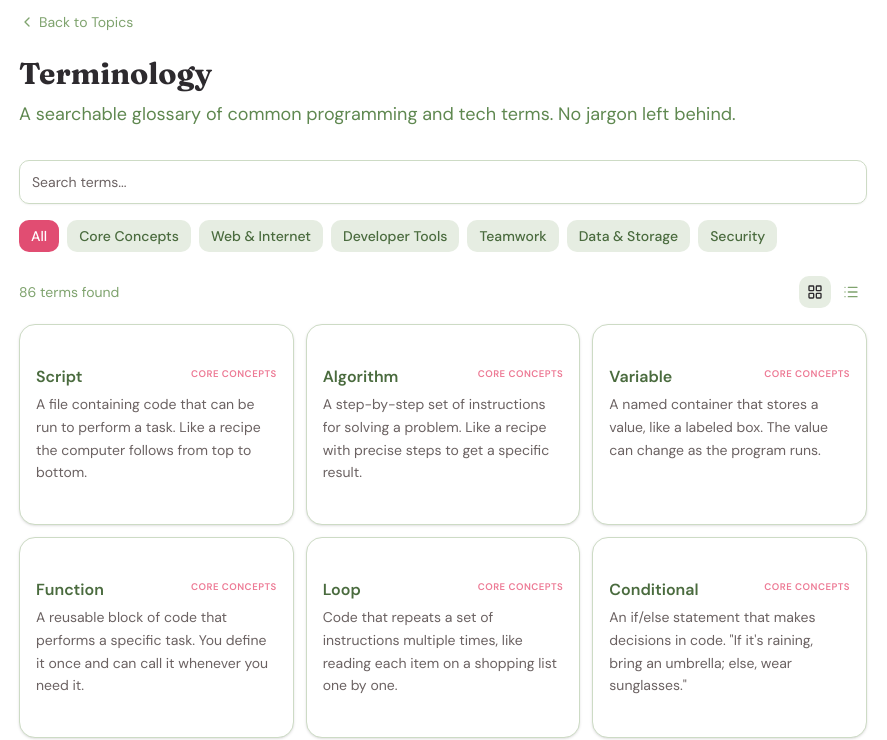
it: TerminologyPage › filters terms when searching
The width and height of the screenshot is (887, 740).
Type "Algorithm" into the field with placeholder "Search terms..." at (443, 182), box [19, 160, 867, 204]
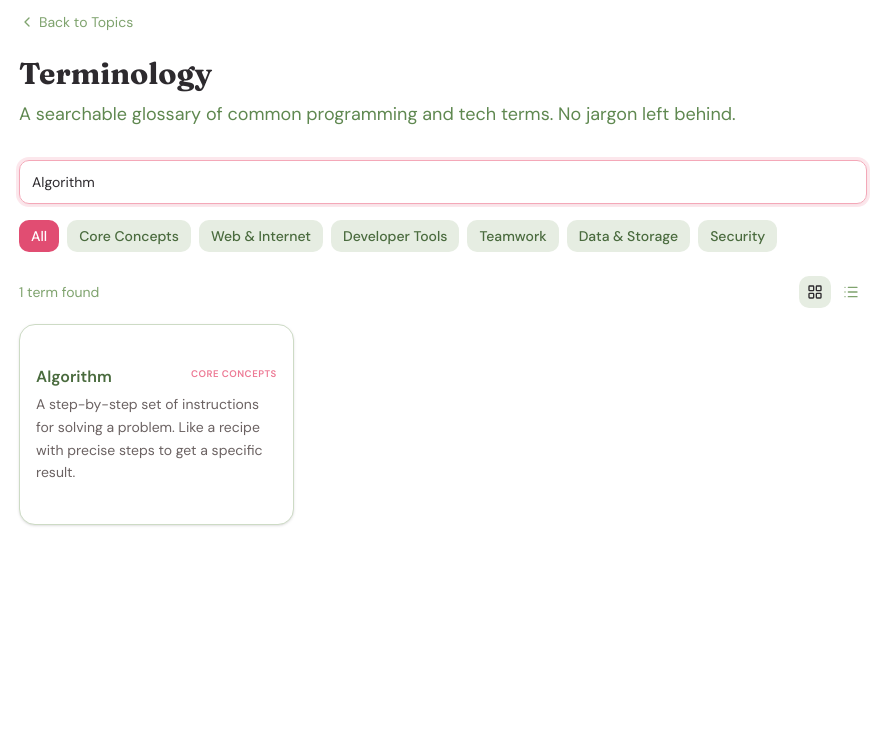
expect the text "Algorithm" is shown: met, box [36, 365, 112, 389]
expect the text "Script" is gone: met
